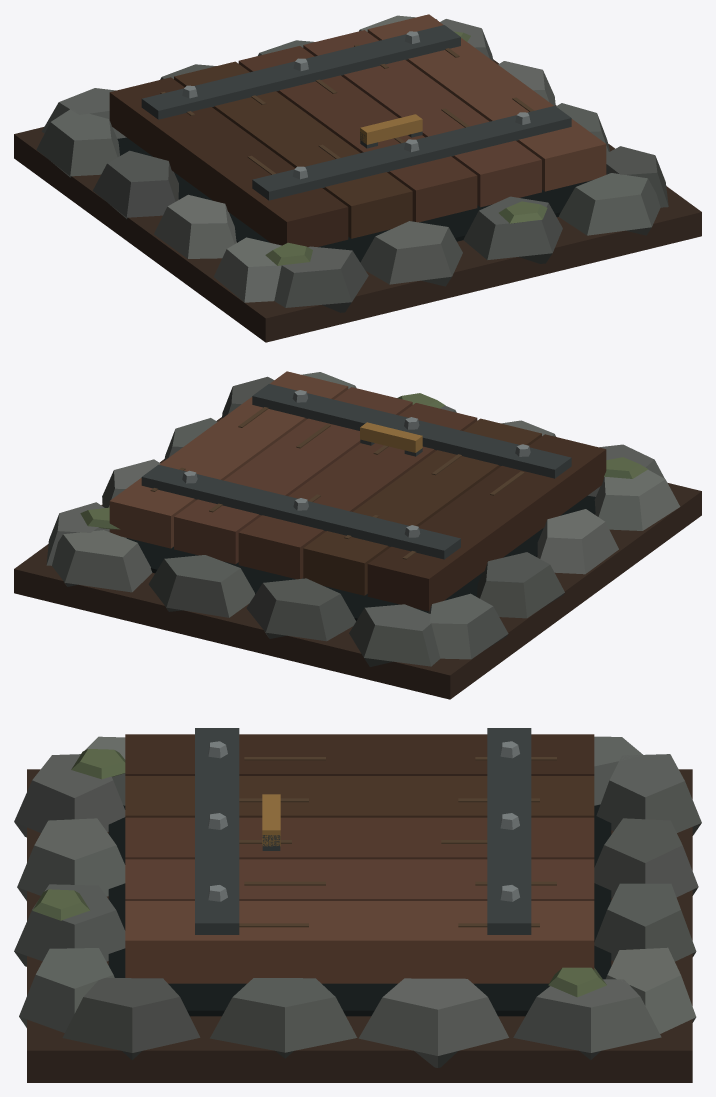
The model's file is road-hatch-closed.glb.
The picture shows the model from 3 angles, top to bottom: view 1: azimuth 30°, elevation 25°; view 2: azimuth 150°, elevation 25°; view 3: azimuth 270°, elevation 25°; orthographic projection. The views are drawn at different scales.
Parts seen in each view (by area): view 1: Roadside hatch · closed; view 2: Roadside hatch · closed; view 3: Roadside hatch · closed.
Boxes of the visible parts, x1,y1,x2,y2 form: Roadside hatch · closed: (14,14,701,342); Roadside hatch · closed: (14,371,701,699); Roadside hatch · closed: (14,728,701,1082).
Size of the model in its own units: 1 by 0.211 by 1.01.
